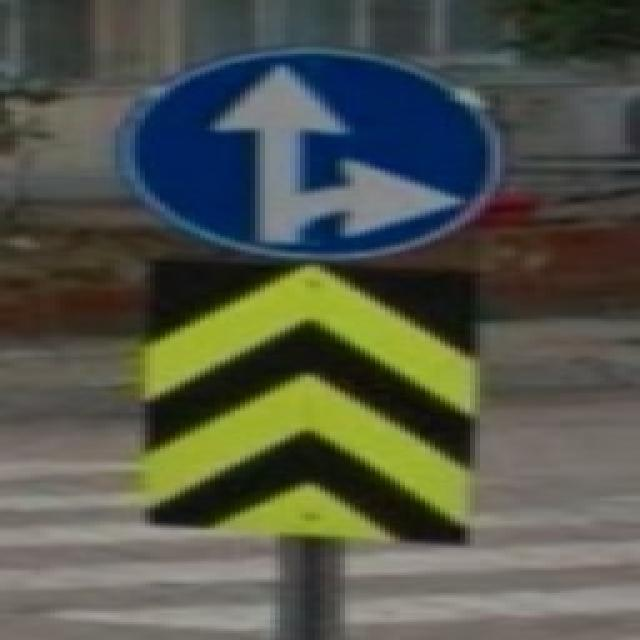Straight or Right: (134, 51, 494, 256)
